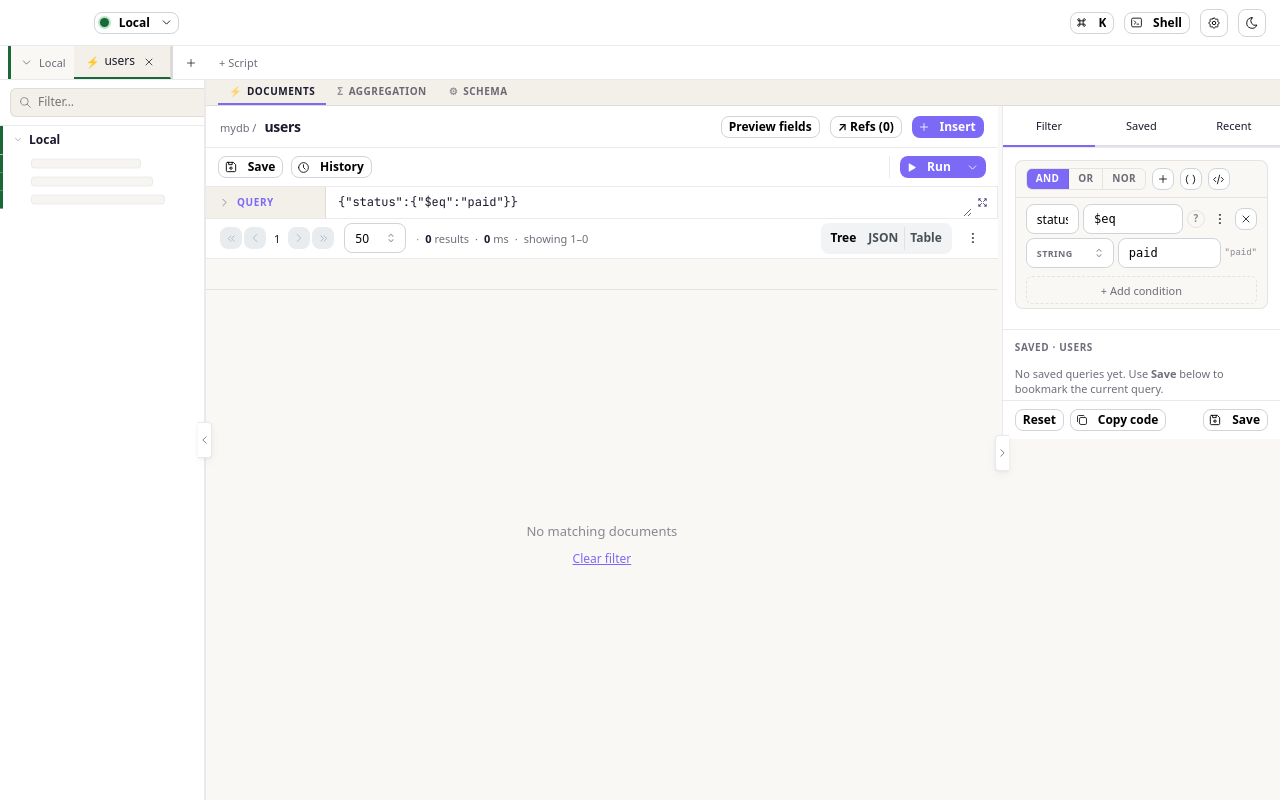
Test: W15 §13.7 — Copy code reports success › says the command was copied
Click the button "Copy code" at [1118, 420], box [1070,409,1166,431]
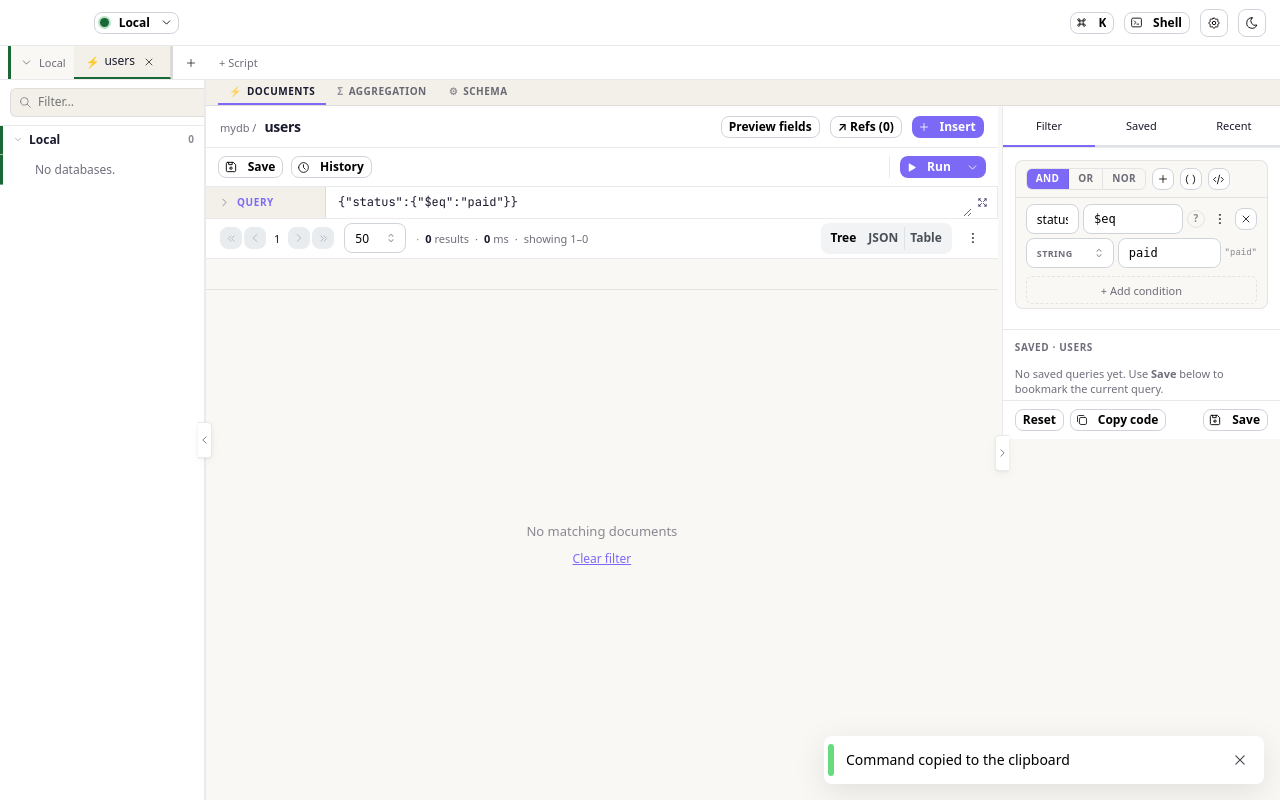
Result: the text "Command copied to the clipboard" is shown at [846,750,1070,769]
